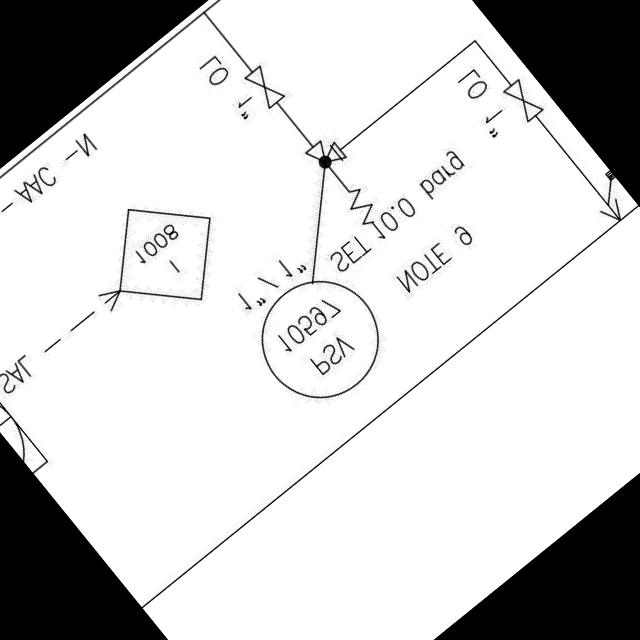GV: (237, 55, 296, 117), (495, 73, 547, 128)
RPV: (292, 121, 396, 235)
